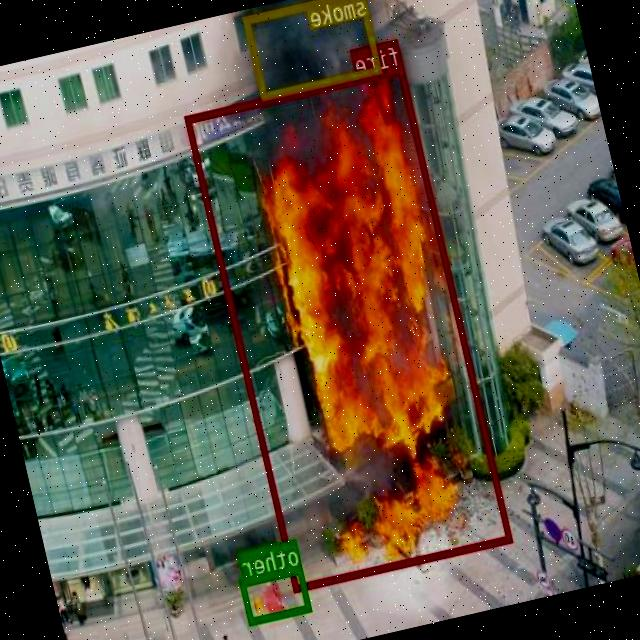fire: (185, 63, 512, 590)
smoke: (243, 0, 382, 98)
